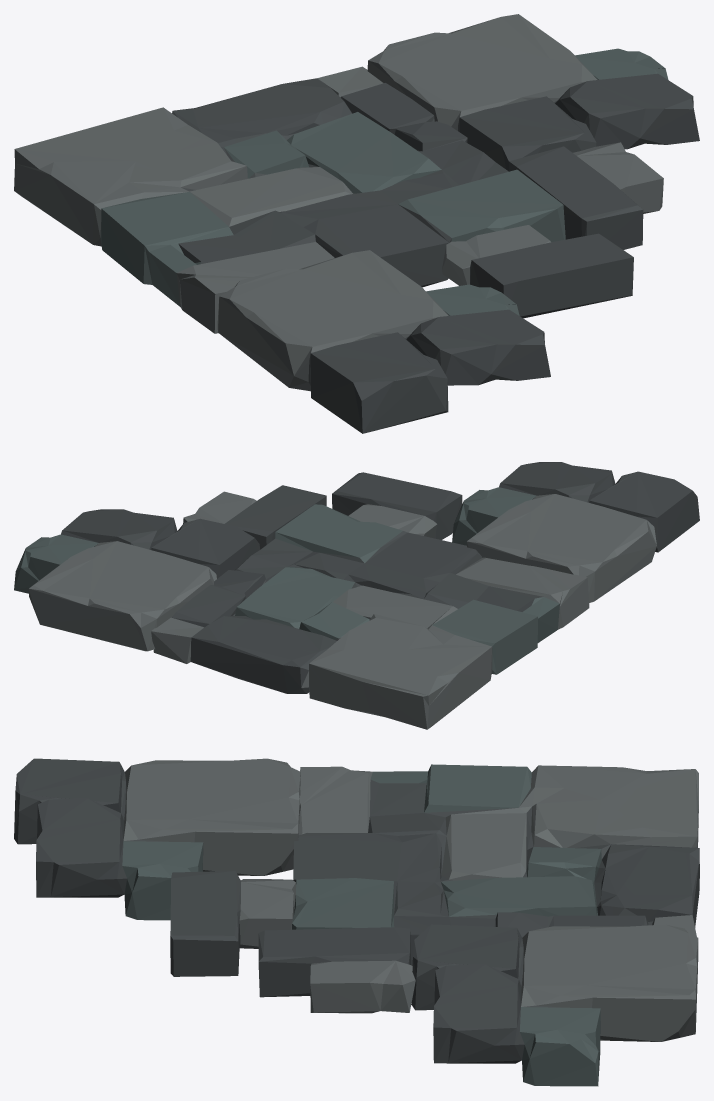
File: MDungenon_StoneFloor_Ruin_Lrg.FBX
3 views of the same model, one above another, from view 1: azimuth 30°, elevation 25°; view 2: azimuth 150°, elevation 25°; view 3: azimuth 270°, elevation 25° (orthographic). The views are drawn at different scales.
Visible parts, largest first — view 1: MDungenon_StoneFloor_Ruin_Lrg_LOD0; view 2: MDungenon_StoneFloor_Ruin_Lrg_LOD0; view 3: MDungenon_StoneFloor_Ruin_Lrg_LOD0.
Boxes of the visible parts, x1,y1,x2,y2 form: MDungenon_StoneFloor_Ruin_Lrg_LOD0: (14,14,699,433); MDungenon_StoneFloor_Ruin_Lrg_LOD0: (14,462,699,729); MDungenon_StoneFloor_Ruin_Lrg_LOD0: (14,758,699,1086).
Size of what is drawn, in the model's own units: 9.8 by 1.08 by 10.25.
